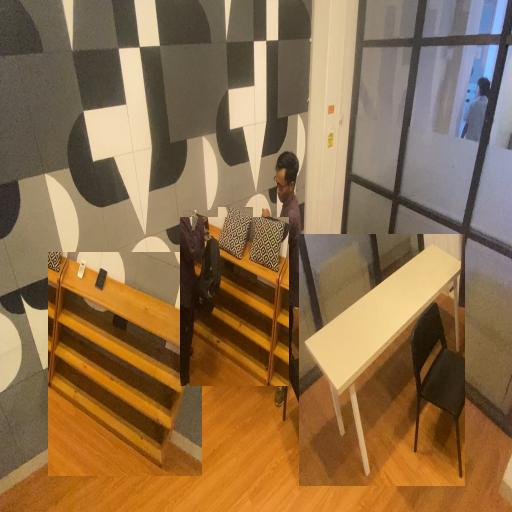bantal: (183, 210, 221, 278), (218, 207, 253, 263)
hp: (138, 261, 156, 295)
kursi: (283, 296, 355, 482)
lemari: (48, 252, 202, 476), (180, 217, 289, 386)
meja: (299, 234, 465, 486)
remote AC: (164, 254, 174, 284)
tas ransel: (248, 212, 278, 325)
